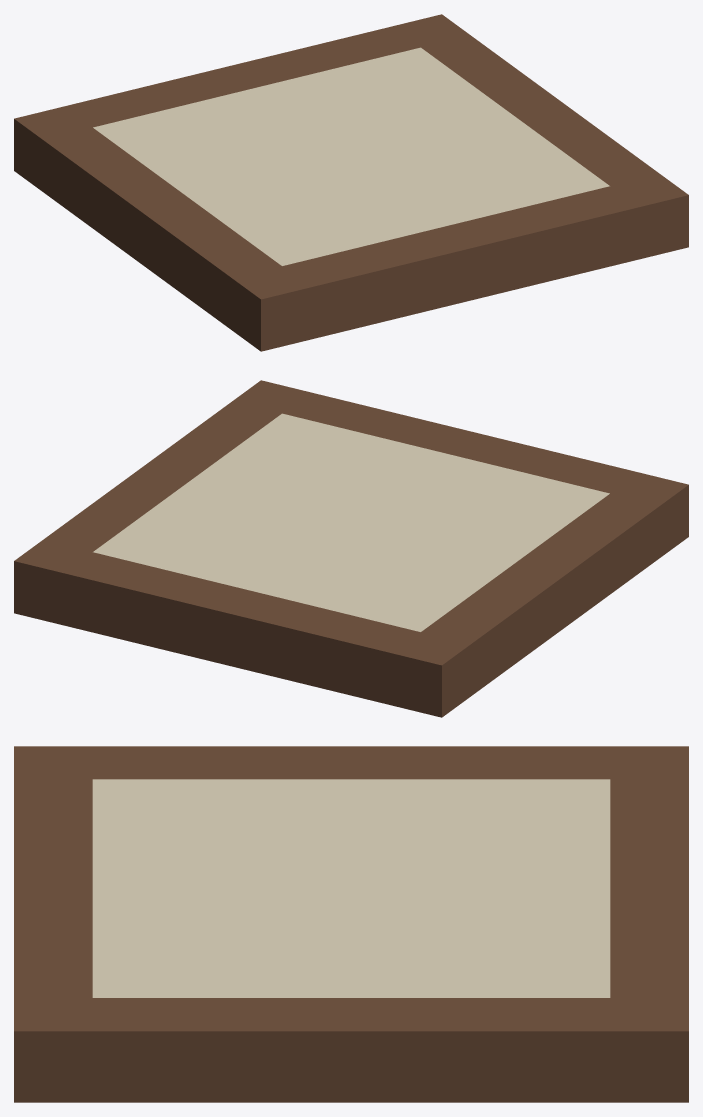
File: rpg-mansion-coffered-ceiling-panel-01.glb
The picture shows the model from 3 angles, top to bottom: view 1: azimuth 30°, elevation 25°; view 2: azimuth 150°, elevation 25°; view 3: azimuth 270°, elevation 25°; orthographic projection. The views are drawn at different scales.
Visible parts, largest first — view 1: rpg-mansion-coffered-ceiling-panel-01; view 2: rpg-mansion-coffered-ceiling-panel-01; view 3: rpg-mansion-coffered-ceiling-panel-01.
Boxes of the visible parts, <box> form: rpg-mansion-coffered-ceiling-panel-01: <box>14,14,688,351</box>; rpg-mansion-coffered-ceiling-panel-01: <box>14,380,688,717</box>; rpg-mansion-coffered-ceiling-panel-01: <box>14,746,688,1102</box>.
Size of the model in its own units: 1.2 by 0.14 by 1.2.
